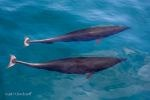fish: (4, 55, 128, 79), (21, 23, 131, 46)
